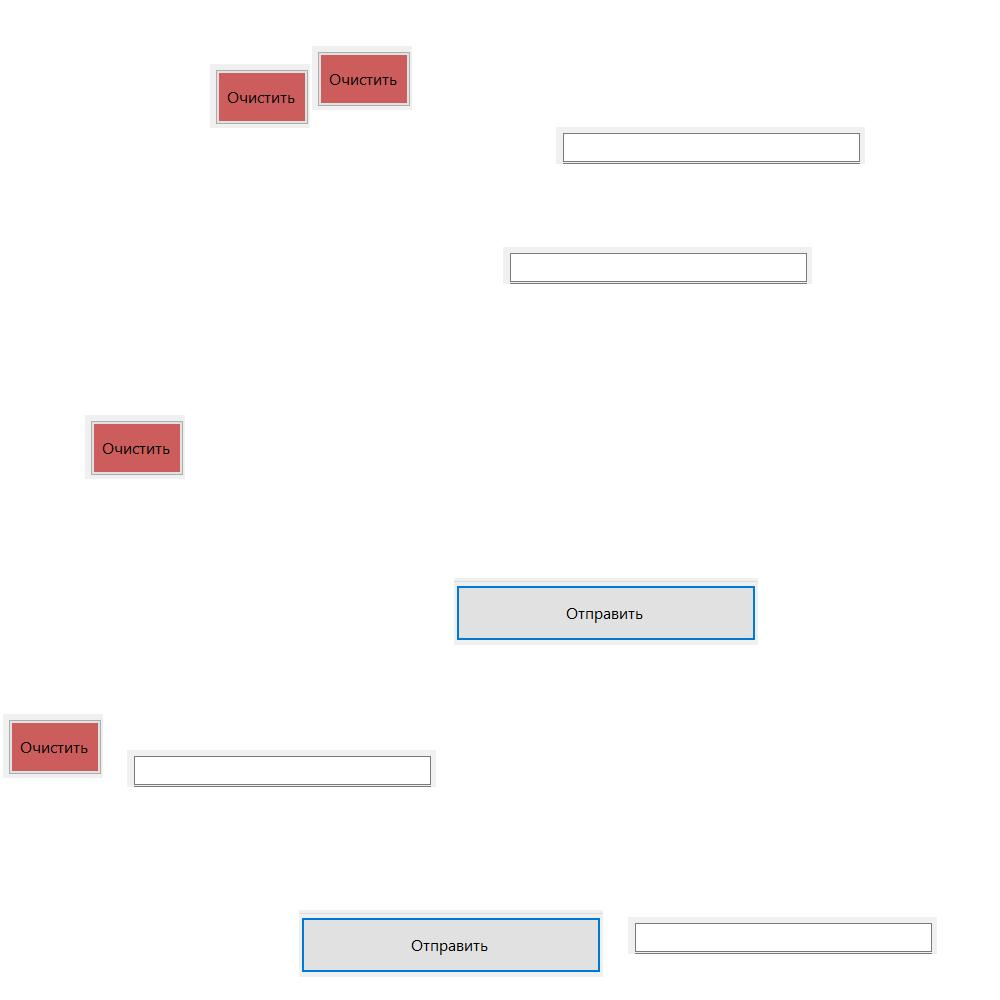Button: (454, 578, 758, 645), (299, 910, 603, 977), (85, 415, 185, 479), (312, 46, 412, 110), (210, 64, 310, 128), (3, 714, 103, 778)
EditText-: (127, 750, 436, 787), (556, 127, 865, 164), (628, 917, 937, 954), (503, 247, 812, 284)
